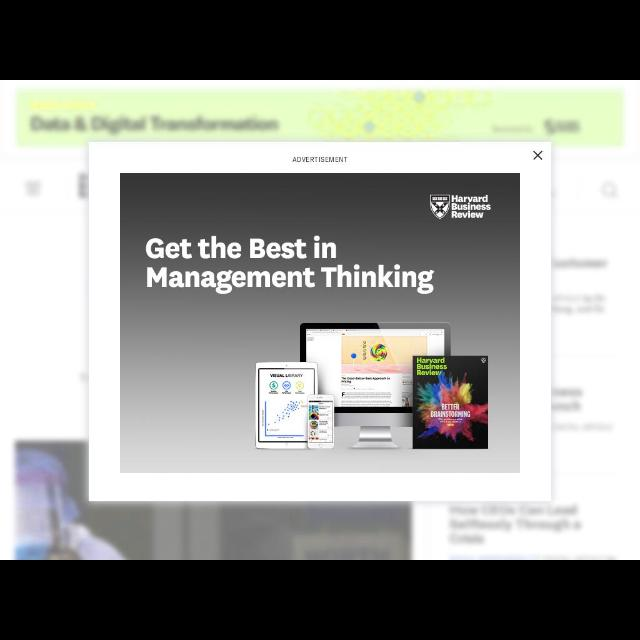iframe: (90, 142, 552, 504)
